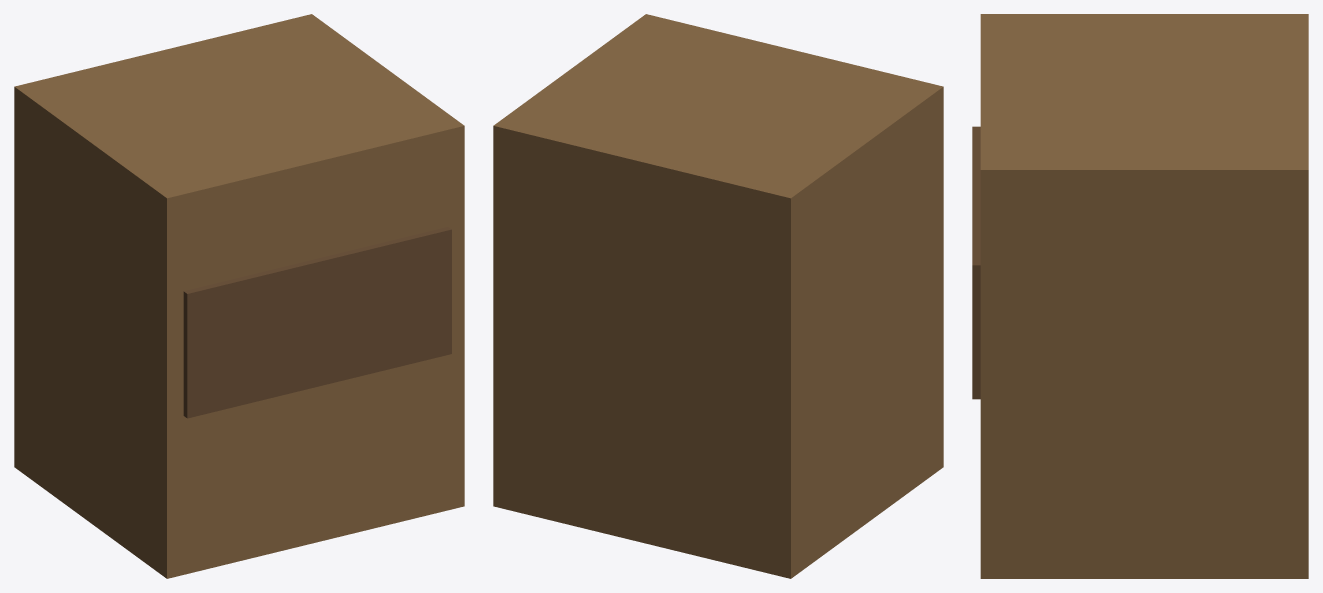
File: bedside-table.gltf
3 renders of one model, left to right at view 1: azimuth 30°, elevation 25°; view 2: azimuth 150°, elevation 25°; view 3: azimuth 270°, elevation 25°, orthographic. The views are drawn at different scales.
Size of the model in its own units: 0.45 by 0.55 by 0.41.
